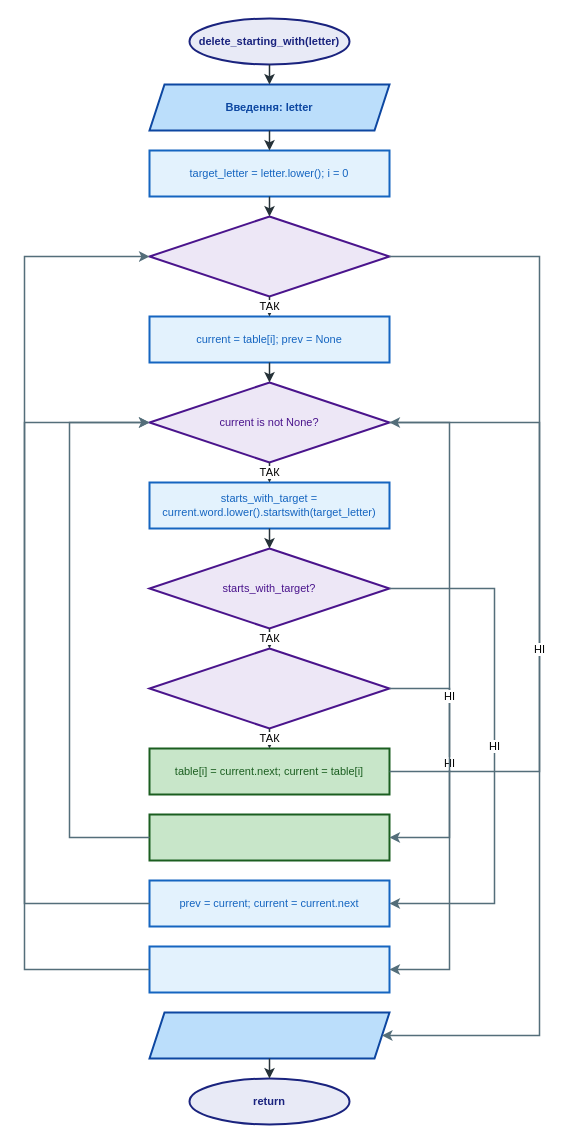
The diagram is 566 pixels wide and 1142 high, and some of its shapes have lost their labels. The shapes that lost their labels are listed below. From the top down, each one's centre as x and y in pixels, then its label:
(x=269, y=256): i < size?
(x=269, y=688): prev is None?
(x=269, y=837): prev.next = current.next; current = prev.next
(x=269, y=969): i = i + 1
(x=269, y=1035): Виведення: table оновлено
